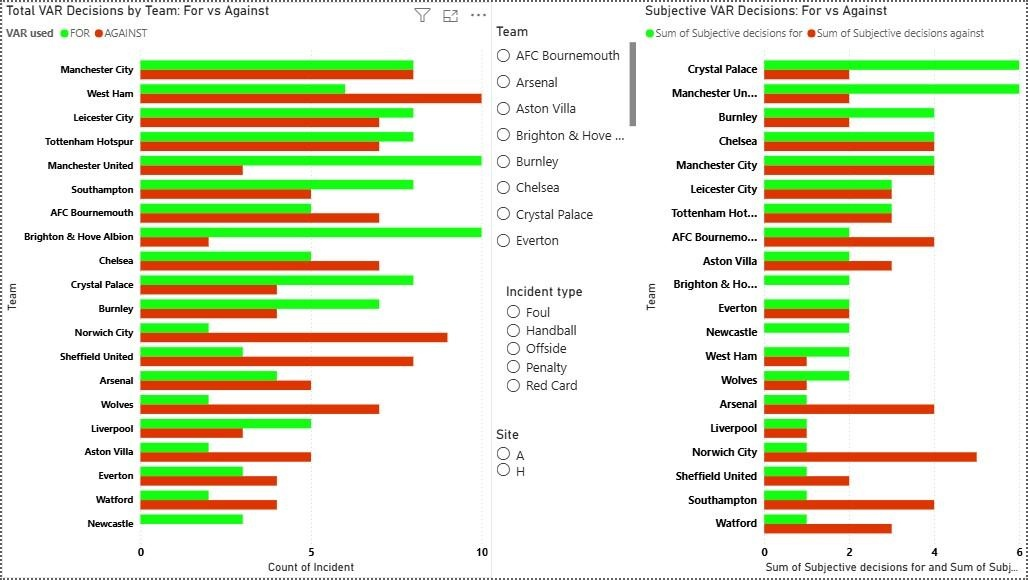

The dashboard page shown, as its layout file describes it:
{"tool":"powerbi","page":{"name":"Total & Subjective VAR Decisions","canvas":[1280,720],"ordinal":2},"visuals":[{"type":"clusteredBarChart","title":"Subjective VAR Decisions: For vs Against","fields":{"Category":["VAR_Team_Stats.Team"],"Y":["Sum(VAR_Team_Stats.Subjective decisions for)","Sum(VAR_Team_Stats.Subjective decisions against)"]},"box":[798.3,0,481.7,719.8],"z":0},{"type":"clusteredBarChart","title":"Total VAR Decisions by Team: For vs Against","fields":{"Category":["VAR_Incidents_Stats.Team"],"Series":["VAR_Incidents_Stats.VAR used"],"Y":["CountNonNull(VAR_Incidents_Stats.Incident)"]},"box":[0,0,612.5,719.8],"z":1000},{"type":"listSlicer","fields":{"Values":["VAR_Team_Stats.Team"]},"box":[612.5,26.2,185.8,293.2],"z":2000},{"type":"listSlicer","fields":{"Values":["VAR_Incidents_Stats.Incident type"]},"box":[624.9,351,173.4,213.3],"z":3000},{"type":"listSlicer","fields":{"Values":["VAR_Incidents_Stats.Site"]},"box":[612.5,529.9,122.5,189.9],"z":4000}]}

Visuals, with their boxes in screenshot pixels (x1, y1, x2, y2), scaled from the page's 1280x720 canvas onto the 1028x580 screenshot:
"Subjective VAR Decisions: For vs Against" clusteredBarChart: <region>641, 0, 1027, 579</region>
"Total VAR Decisions by Team: For vs Against" clusteredBarChart: <region>0, 0, 492, 579</region>
listSlicer - VAR_Team_Stats.Team: <region>492, 21, 641, 257</region>
listSlicer - VAR_Incidents_Stats.Incident type: <region>502, 283, 641, 455</region>
listSlicer - VAR_Incidents_Stats.Site: <region>492, 427, 590, 579</region>
